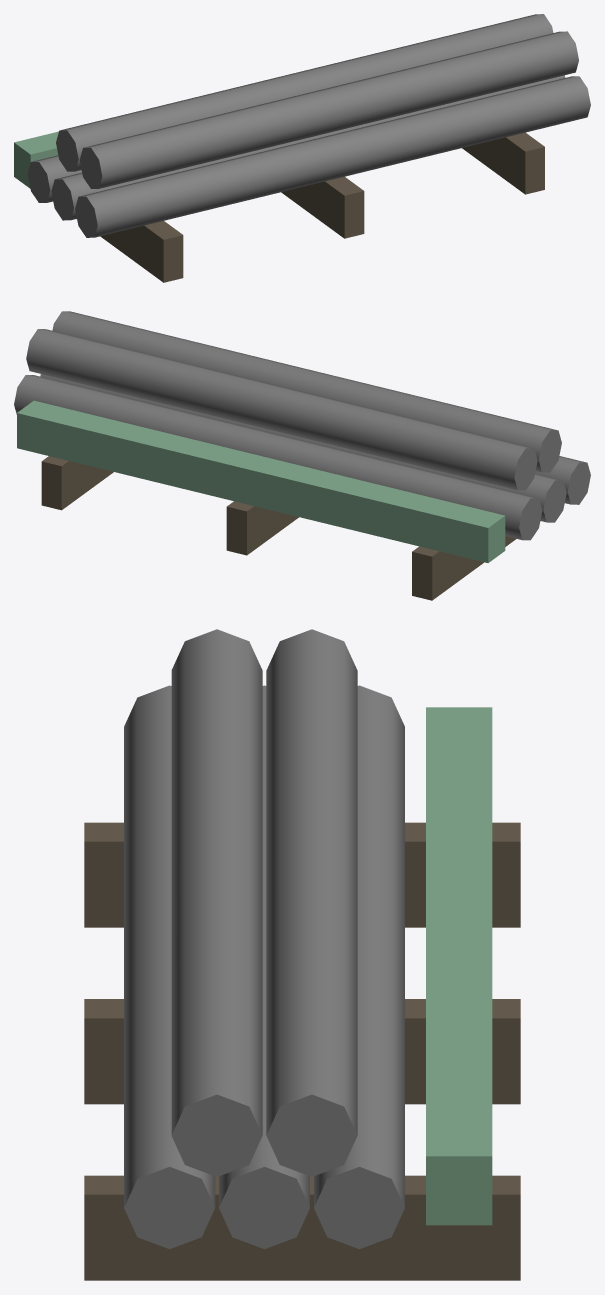
Rendered from site_clutter5.fbx.
3 renders of one model, top to bottom at view 1: azimuth 30°, elevation 25°; view 2: azimuth 150°, elevation 25°; view 3: azimuth 270°, elevation 25°, orthographic. The views are drawn at different scales.
Visible parts, largest first — view 1: a1089/0/site_clutter5; view 2: a1089/0/site_clutter5; view 3: a1089/0/site_clutter5.
Part boxes in pixels (x1,y1,x2,y2): a1089/0/site_clutter5: (14, 14, 590, 282); a1089/0/site_clutter5: (14, 311, 590, 600); a1089/0/site_clutter5: (84, 629, 520, 1280).
Bounding box in the file's own units: 6 × 1.4 × 2.3.
